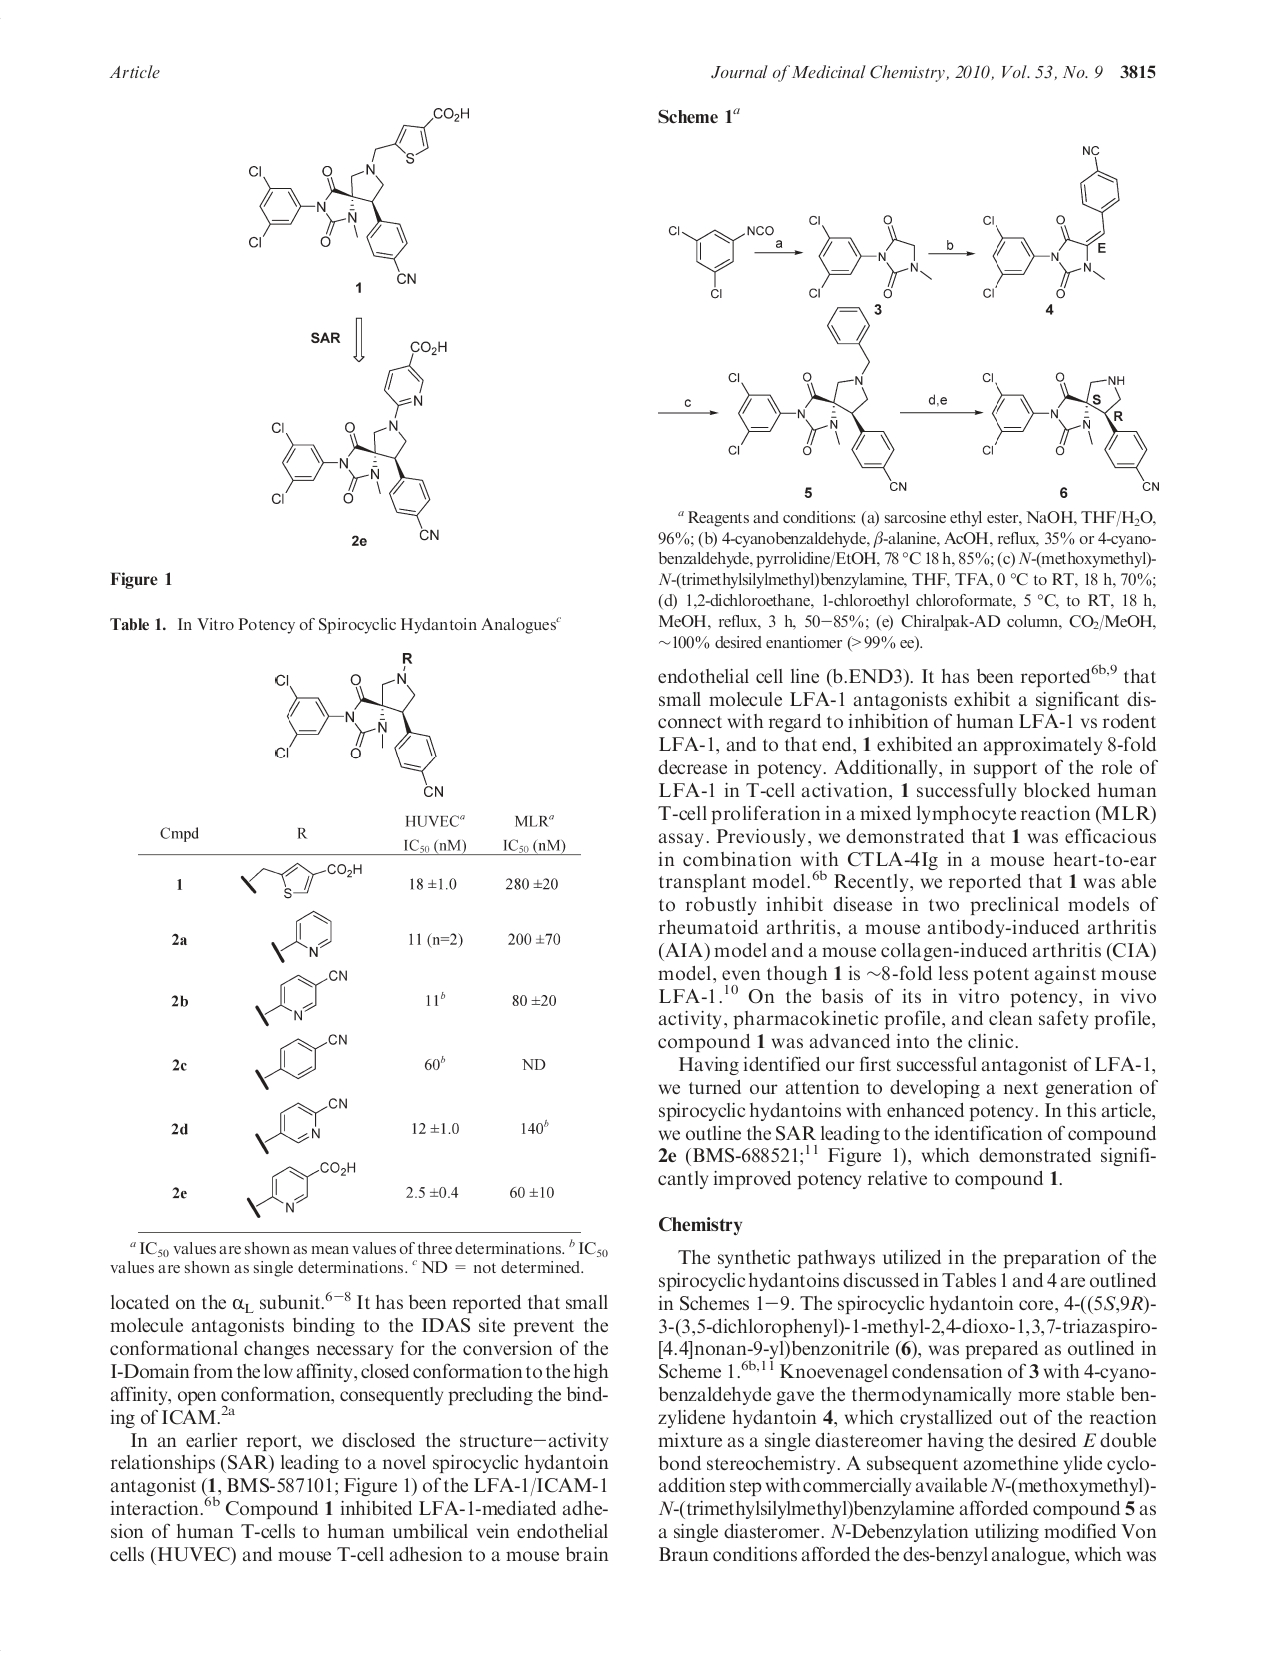exist_molecular: (249, 102, 473, 286), (269, 336, 448, 543), (725, 305, 910, 493), (273, 649, 445, 797), (981, 366, 1160, 496), (981, 144, 1120, 302), (807, 210, 934, 298), (668, 221, 777, 301), (247, 1160, 356, 1220), (253, 1096, 348, 1156), (255, 968, 348, 1027), (255, 1033, 348, 1091), (239, 860, 366, 898), (270, 910, 334, 964)
